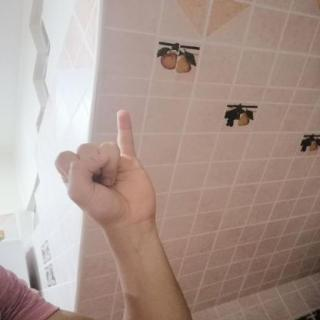MEEM: (41, 102, 167, 233)
